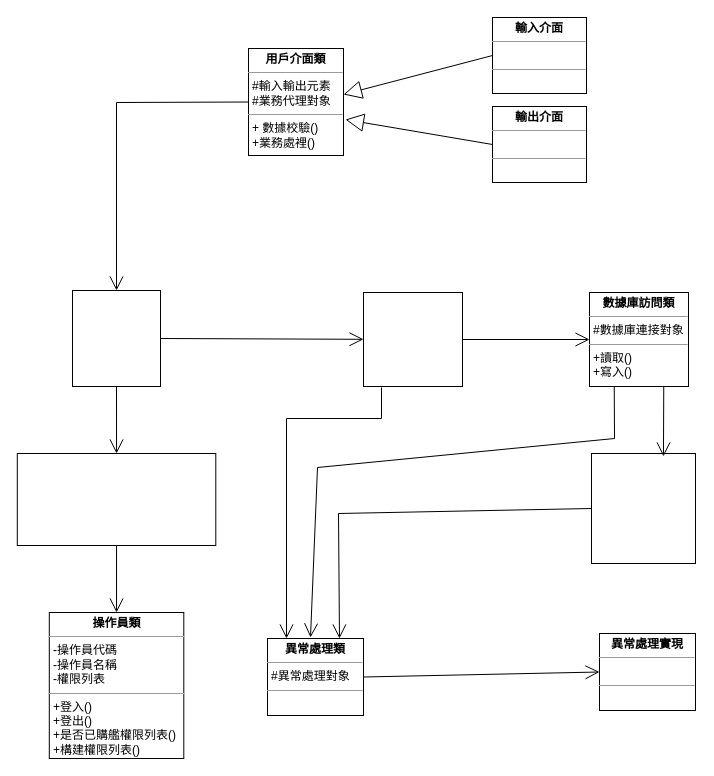
This 714x776 diagram has some shape labels left out. The shapes that lost their labels are listed below. From the top down, each one's centre as x and y in pixels, then its label:
At [116,338]: "業務代理類 #權限管理對象 #業務 對象 +業務處裡()".
At [412,339]: "業務邏輯類 #數據庫連接對象 #數據庫訪問對象 + 業務處理()".
At [116,499]: "權限管理類 #操作員對象 + 驗證權限in 操作員代碼in 權限列表 +獲取權限列表in 操作員代碼".
At [643,508]: "數據庫連接類 +開始事務() +提交事務() -回滾事務()".
